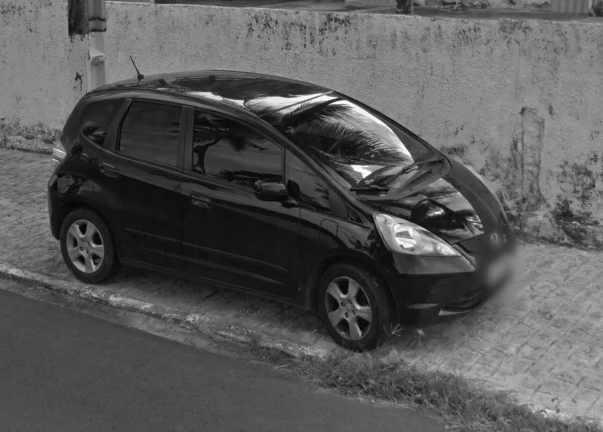car: (43, 54, 521, 356)
